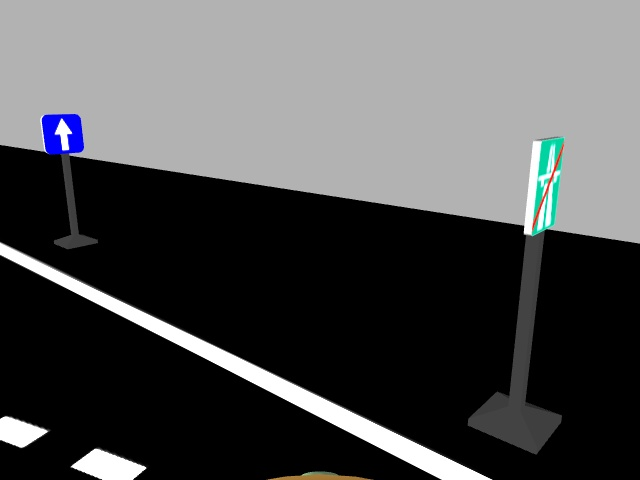HighwayExit: (521, 135, 566, 237)
OneWay: (34, 113, 88, 156)
